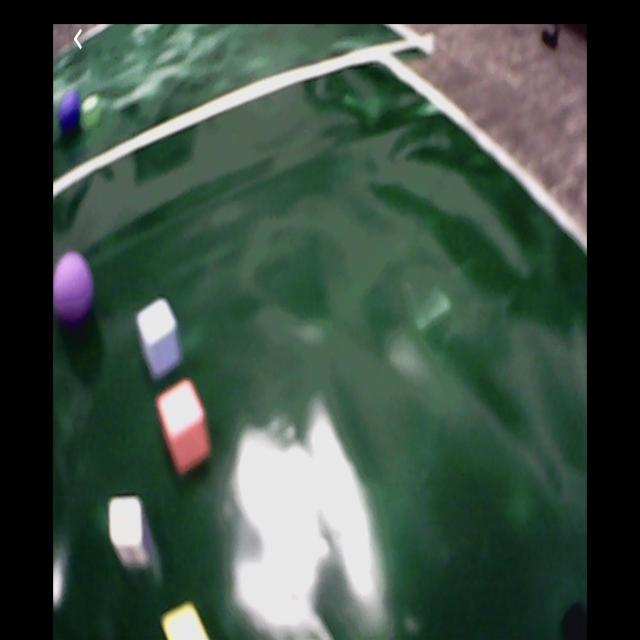ball: (55, 254, 93, 319), (60, 93, 81, 133)
